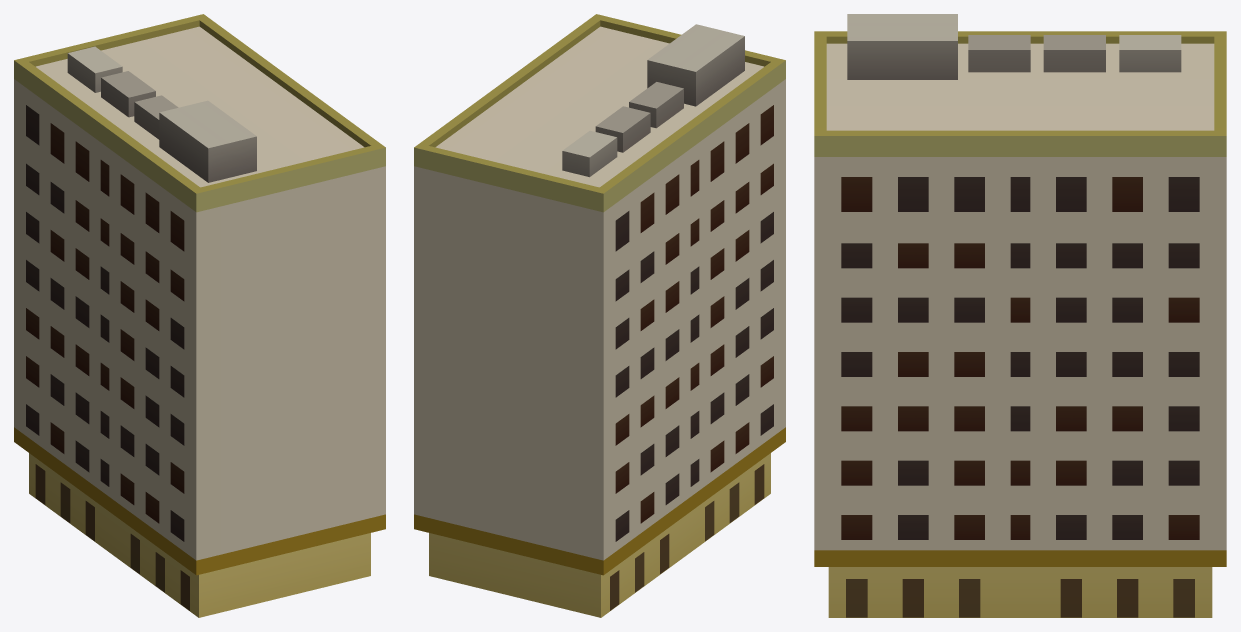
Rendered from SM_City_Building_02.fbx.
The picture shows the model from 3 angles, left to right: view 1: azimuth 30°, elevation 25°; view 2: azimuth 150°, elevation 25°; view 3: azimuth 270°, elevation 25°; orthographic projection. The views are drawn at different scales.
Visible parts, largest first — view 1: SM_City_Building_02; view 2: SM_City_Building_02; view 3: SM_City_Building_02.
Boxes of the visible parts, left/top/right/bottom form: SM_City_Building_02: left=14, top=14, right=385, bottom=617; SM_City_Building_02: left=414, top=14, right=785, bottom=617; SM_City_Building_02: left=814, top=14, right=1226, bottom=617.
Size of the model in its own units: 3.25 by 7.46 by 5.37.
